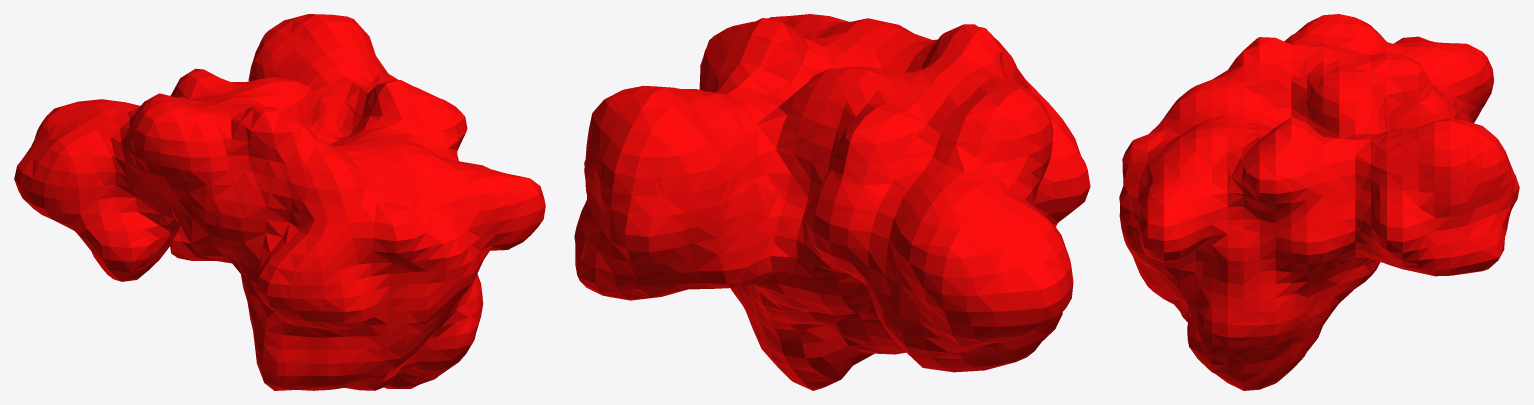
Rendered from dcm_coarse.dae.
3 views of the same model, side by side, from view 1: azimuth 30°, elevation 25°; view 2: azimuth 150°, elevation 25°; view 3: azimuth 270°, elevation 25° (orthographic). The views are drawn at different scales.
Visible parts, largest first — view 1: dcm; view 2: dcm; view 3: dcm.
Part boxes in pixels (x1,y1,x2,y2): dcm: (14,14,545,390); dcm: (574,14,1090,390); dcm: (1119,14,1519,390).
Size of the model in its own units: 72.95 by 55.79 by 69.99.
